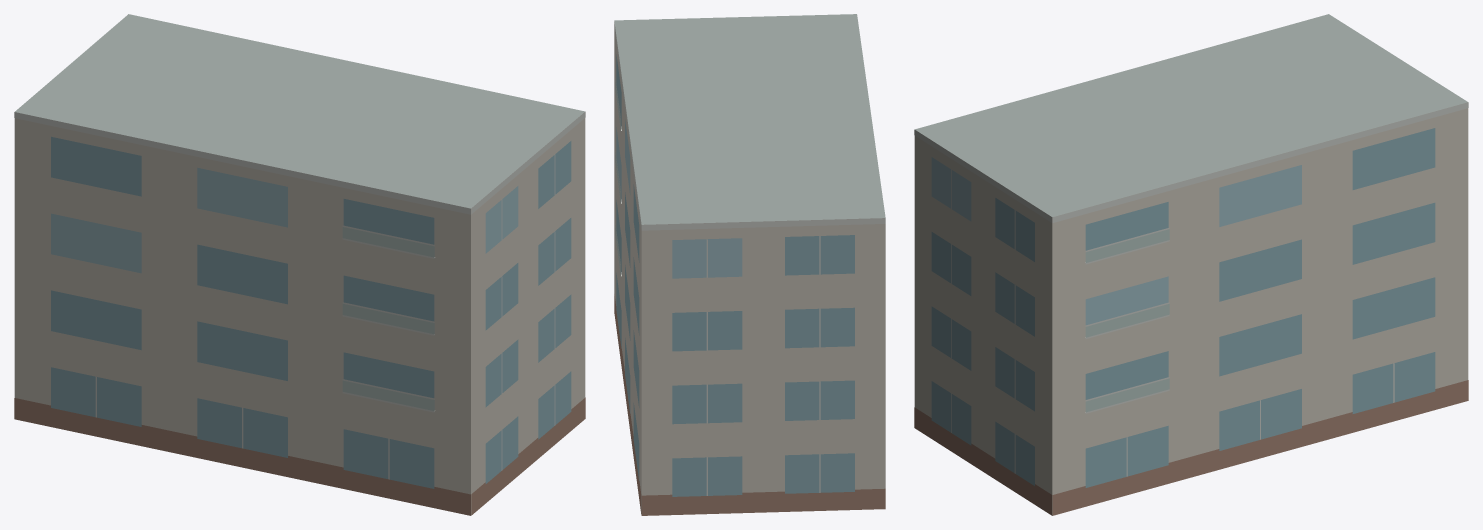
File: survey-upis-32584723.glb
3 views of the same model, side by side, from view 1: azimuth 30°, elevation 25°; view 2: azimuth 150°, elevation 25°; view 3: azimuth 270°, elevation 25° (orthographic). The views are drawn at different scales.
Parts seen in each view (by area): view 1: survey-upis-32584723.tmp; view 2: survey-upis-32584723.tmp; view 3: survey-upis-32584723.tmp.
Boxes of the visible parts, x1,y1,x2,y2 form: survey-upis-32584723.tmp: (14, 14, 585, 515); survey-upis-32584723.tmp: (614, 14, 885, 515); survey-upis-32584723.tmp: (914, 14, 1468, 515).
Size of the model in its own units: 17.82 by 12.2 by 20.52.
